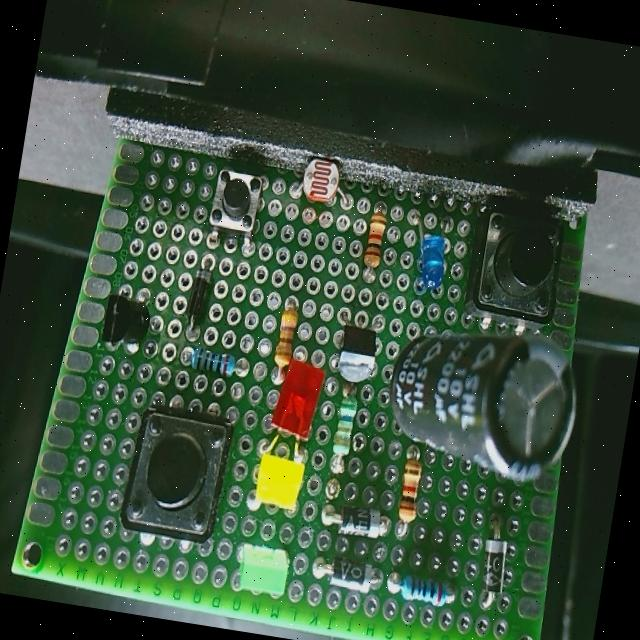Electrolytic capacitor: (374, 321, 608, 500)
cds: (290, 148, 352, 215)
diode: (467, 534, 512, 613), (315, 548, 384, 598), (328, 498, 385, 548), (182, 249, 213, 334)
led: (224, 516, 312, 612), (268, 350, 326, 448), (403, 214, 462, 296), (252, 452, 309, 520)
resistor: (316, 386, 368, 490), (389, 445, 434, 540), (390, 566, 458, 618), (358, 202, 398, 288), (270, 296, 306, 371), (186, 347, 246, 382)
switch: (114, 388, 240, 557), (456, 200, 577, 334), (193, 156, 268, 236)
transistor: (95, 284, 158, 358), (331, 319, 384, 389)
